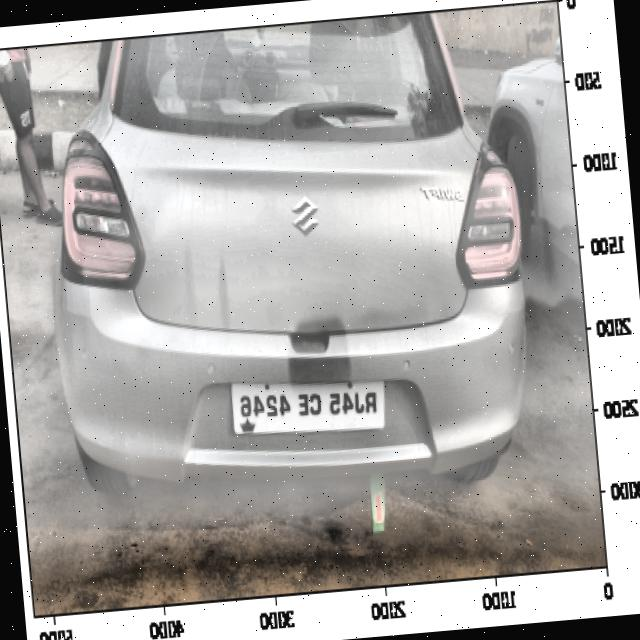license_plate: (232, 378, 384, 433)
